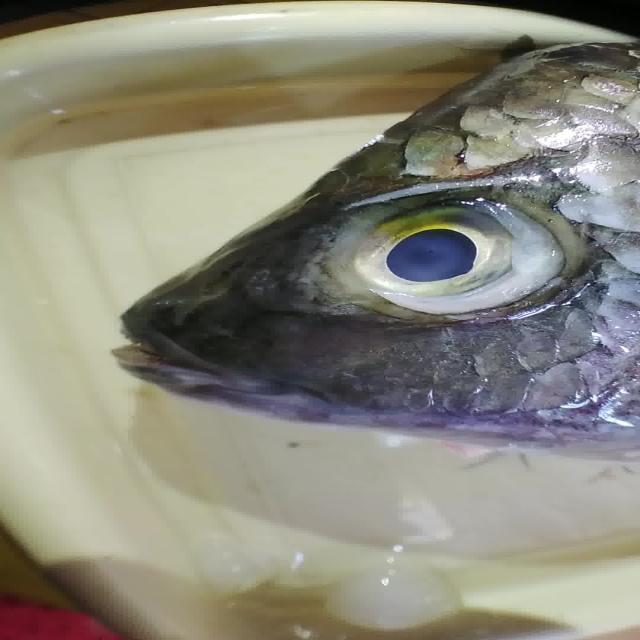Fresh: (338, 190, 583, 329)
